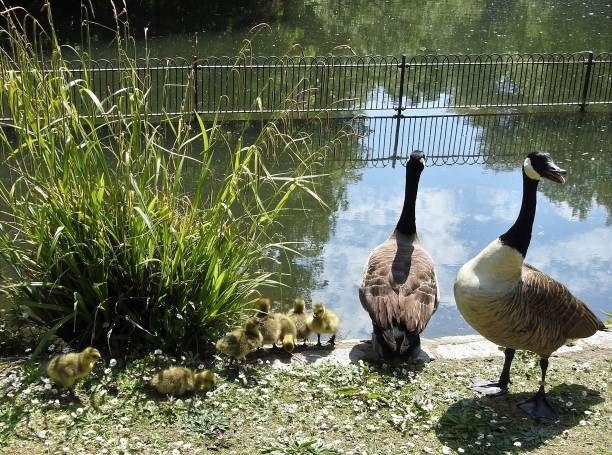goose: (452, 148, 608, 419), (355, 148, 443, 354)
